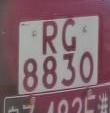0: (78, 49, 96, 87)
3: (57, 51, 80, 91)
8: (38, 54, 61, 93), (20, 57, 41, 94)
G: (59, 16, 80, 54)
R: (39, 17, 61, 57)
